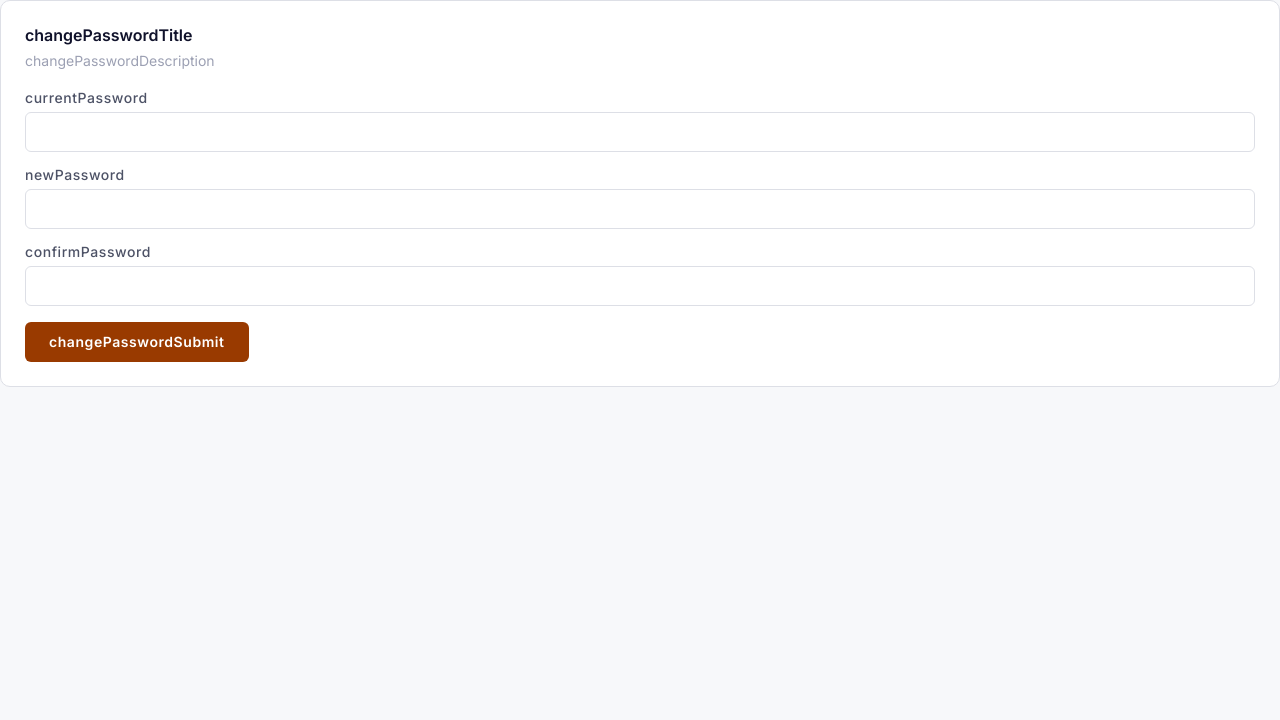
ChangePasswordForm › shows generic error for unexpected API errors
This screenshot has width=1280, height=720.
Type "OldPass1!" into the password field labelled "currentPassword" at coordinates (640, 132), box [25,112,1255,152]
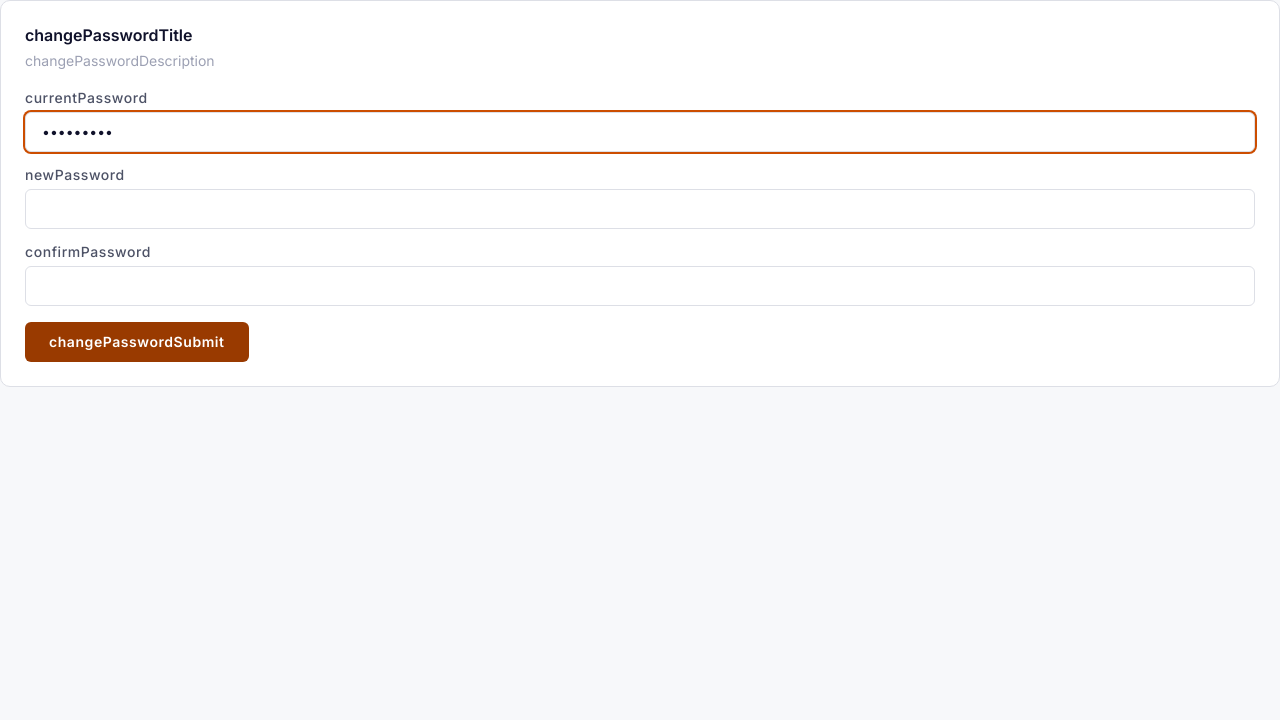
Type "SecurePass1!" into the password field labelled "newPassword" at coordinates (640, 209), box [25,189,1255,229]
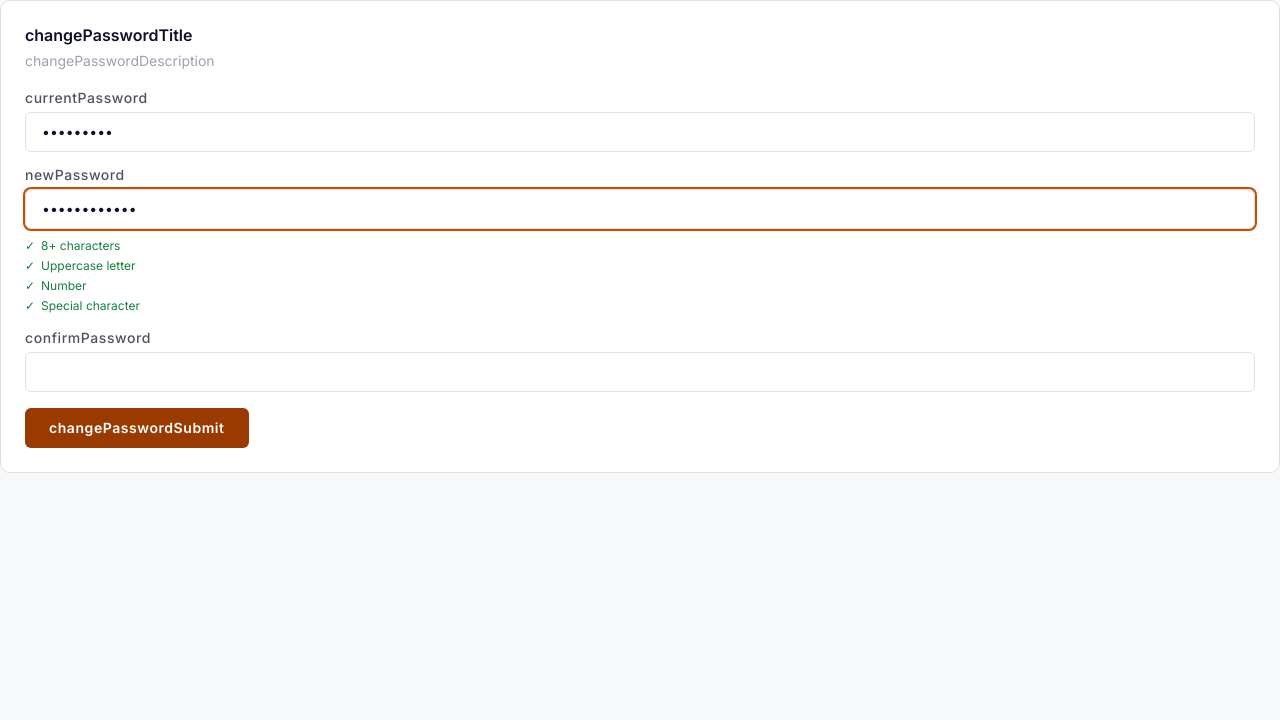
Type "SecurePass1!" into the password field labelled "confirmPassword" at coordinates (640, 372), box [25,352,1255,392]
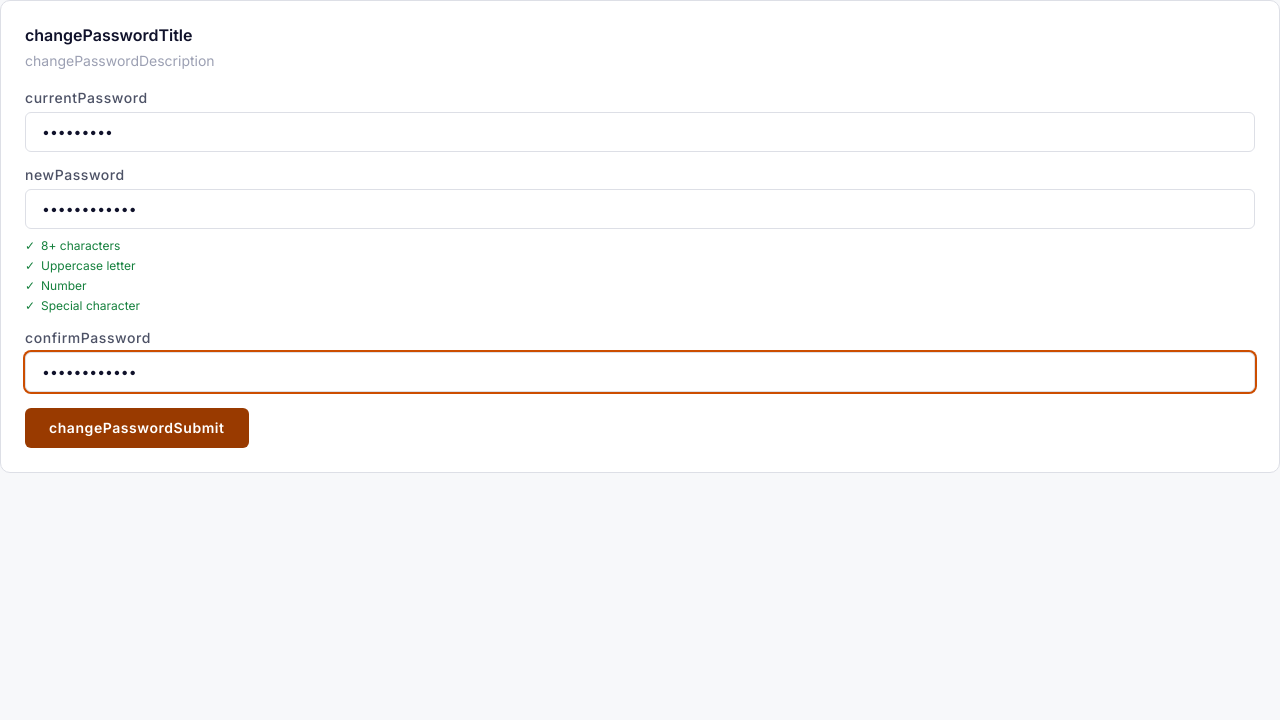
Click the button "changePasswordSubmit" at coordinates (137, 428), box [25,408,249,448]
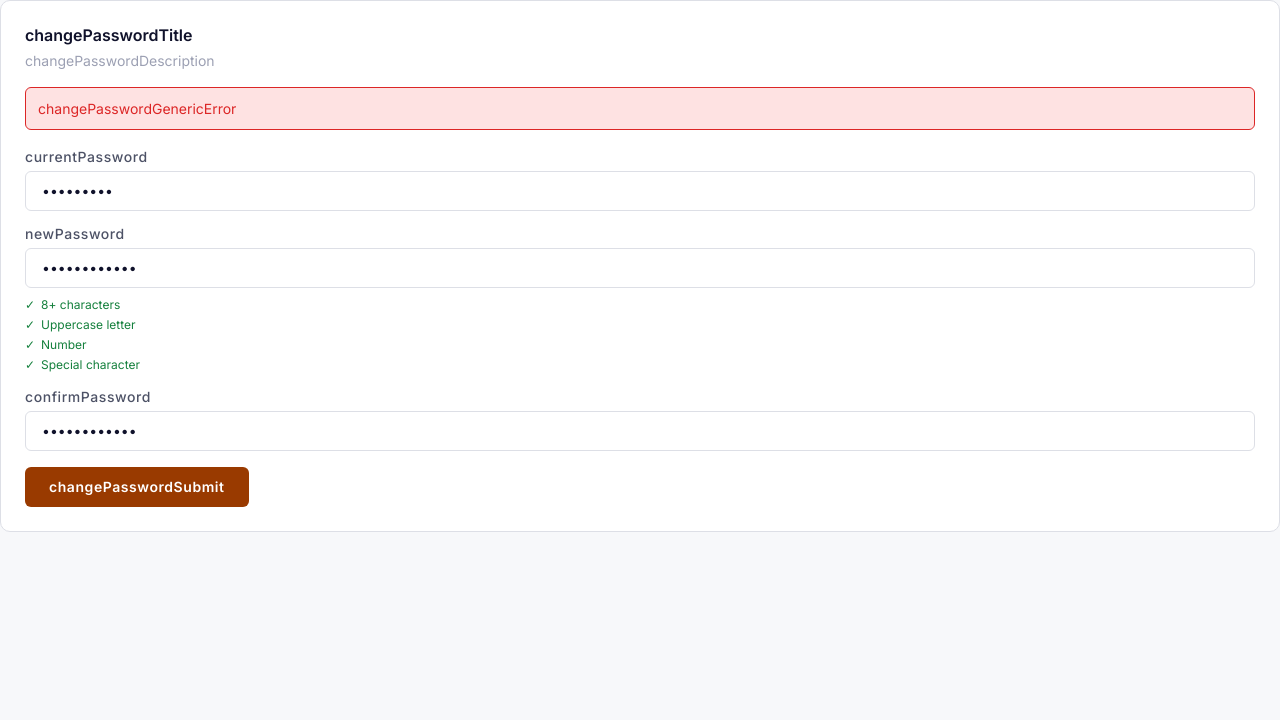
Expected: the text "changePasswordGenericError" is shown, [25,87,1255,130]
